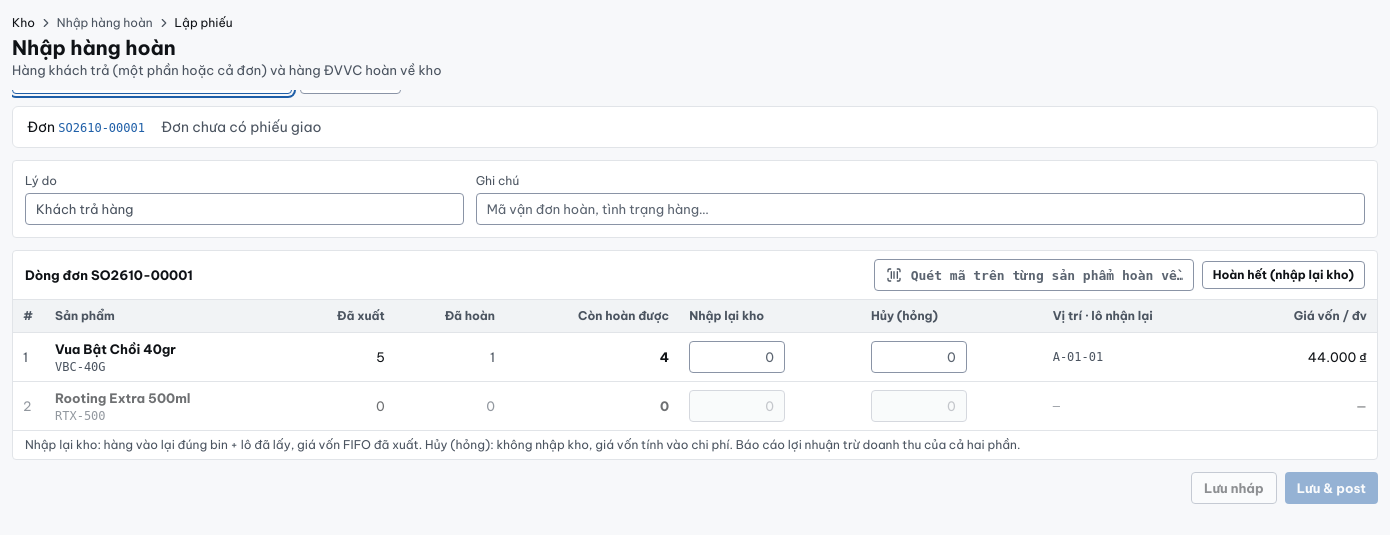
Scenario: Nhập hàng hoàn › vượt phần còn hoàn được → báo lỗi trên dòng, khoá nút lưu
Type "3" into the field named "Nhập lại kho dòng 1" at (737, 356), box [689,340,785,372]
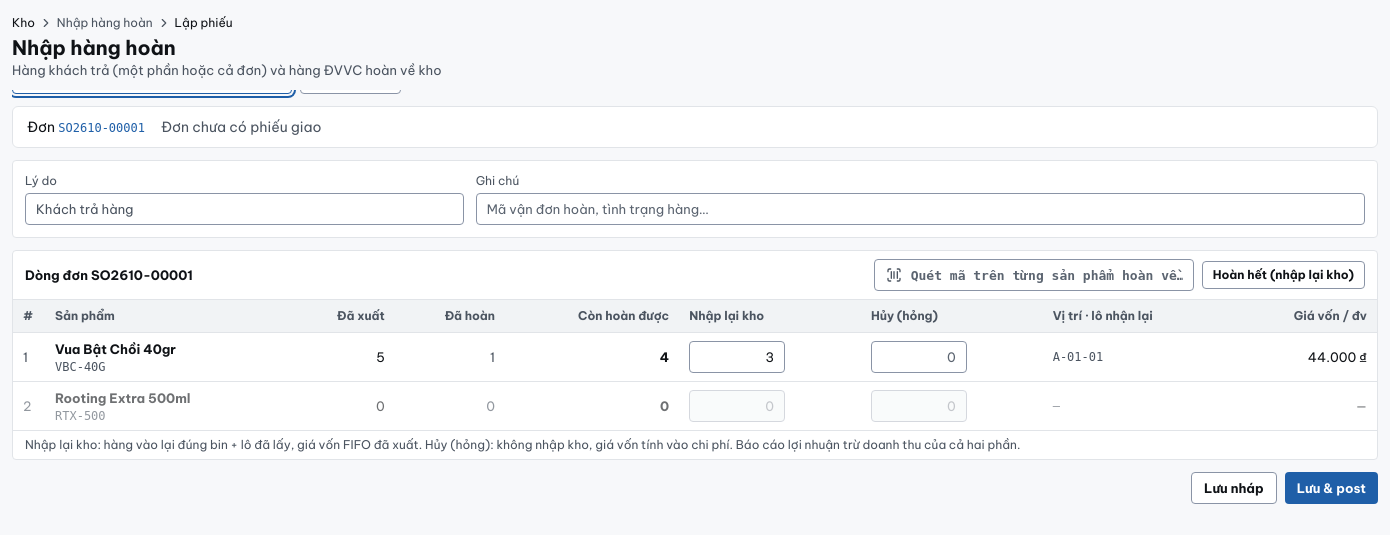
Type "2" into the field named "Hủy dòng 1" at (919, 356), box [871,340,967,372]
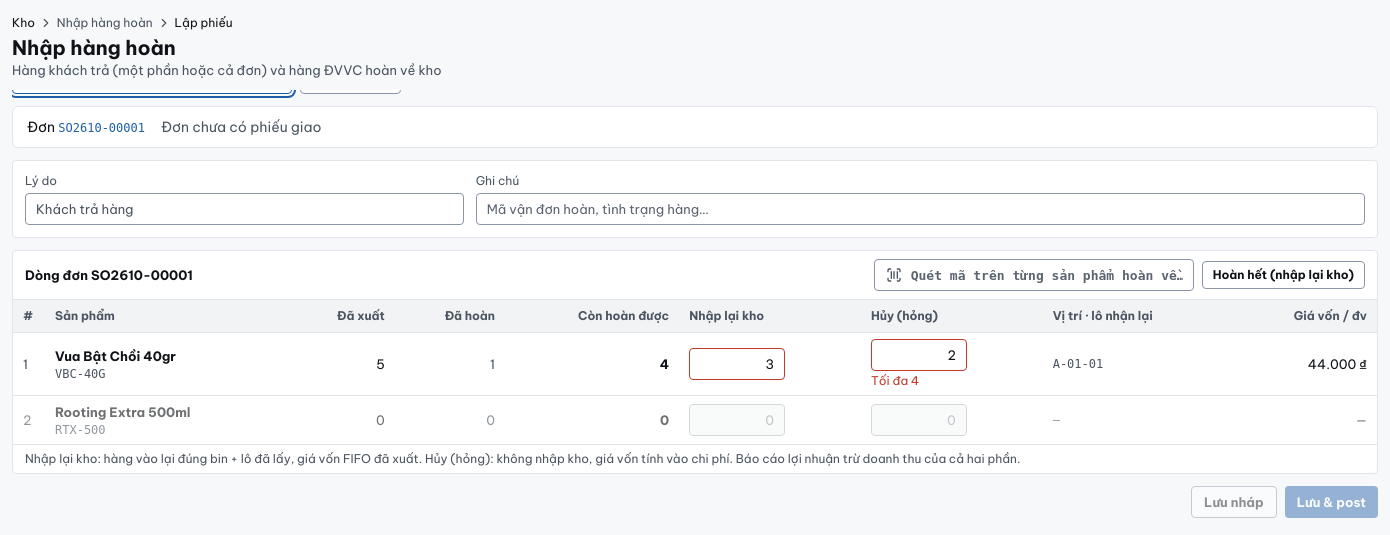
Expected: the text "Tối đa 4" is shown, [871,372,919,388]
Expected: the button "Lưu & post" is disabled, [1285,486,1378,518]
